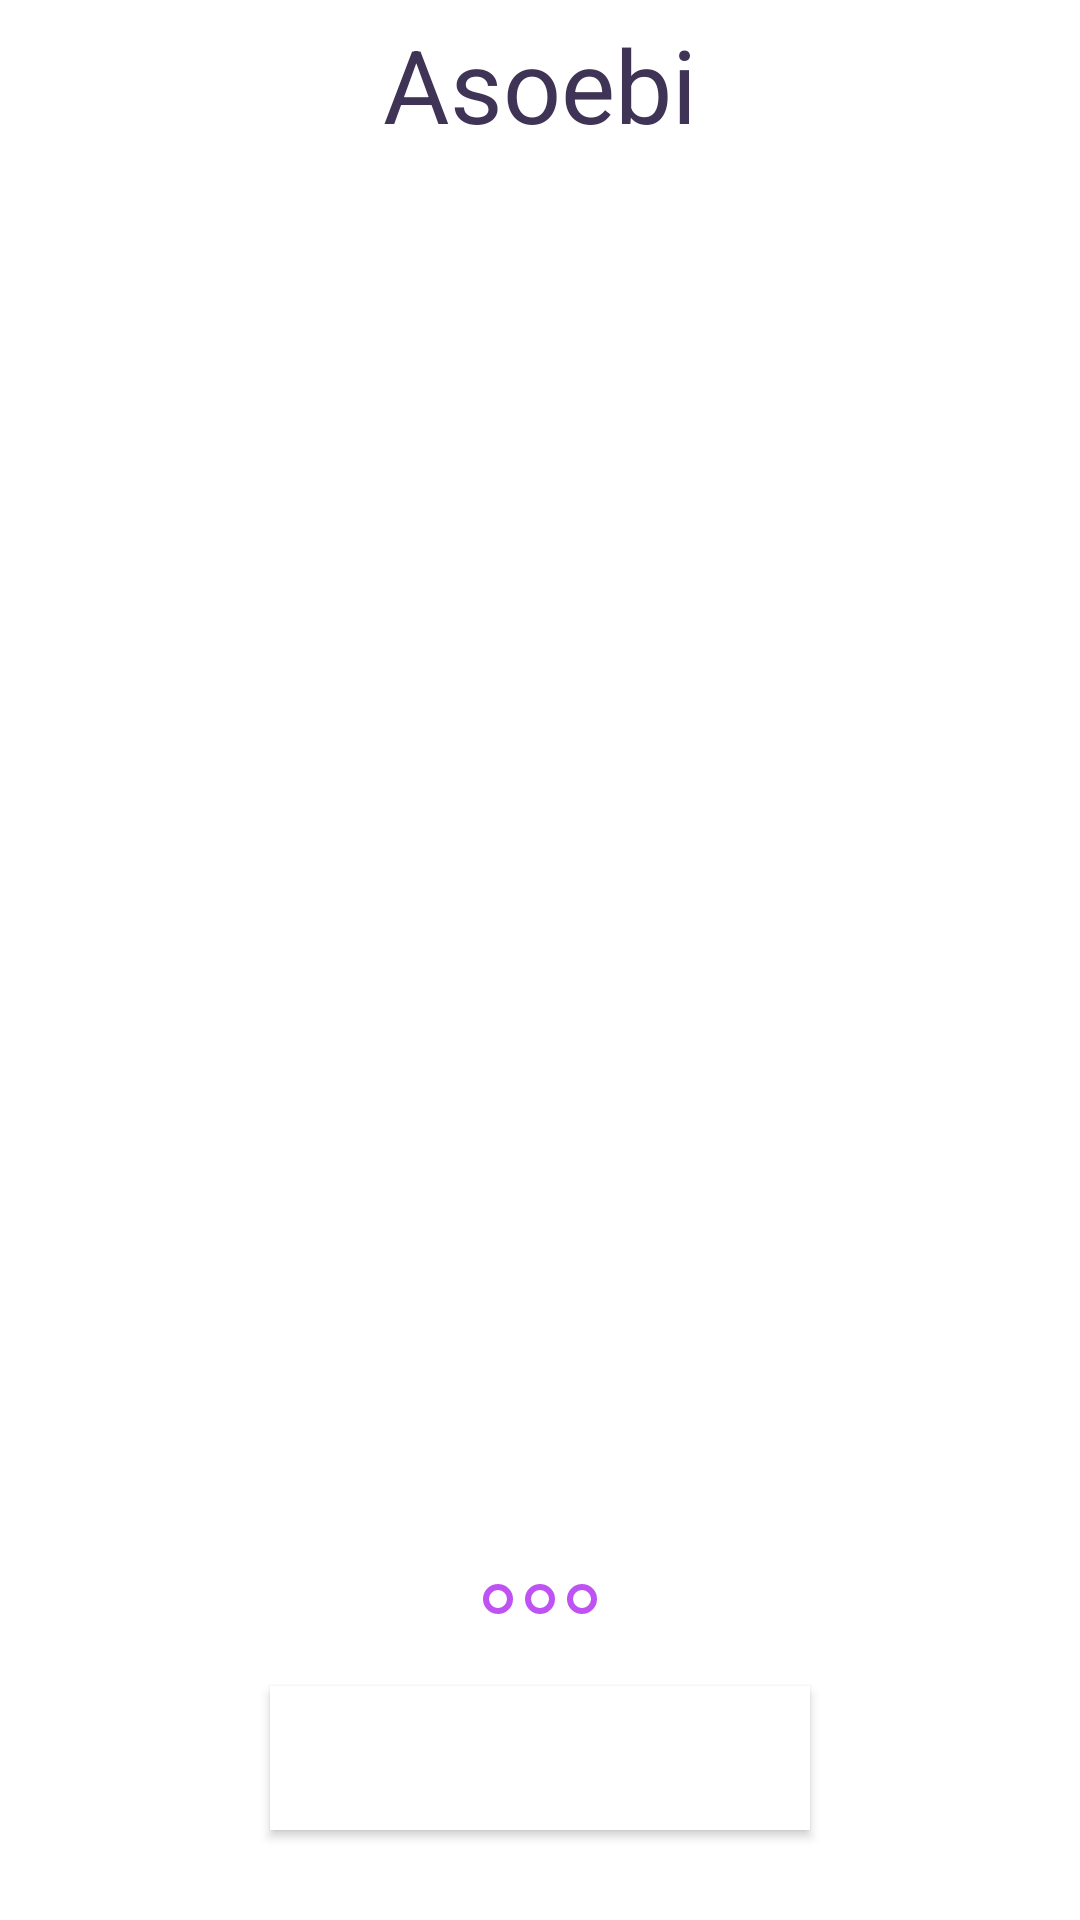

Where to tap for icons on this 1080×1920 app screen, as (x=x, y=y):
indicator round: (x=498, y=1599), (x=540, y=1599), (x=582, y=1599)
